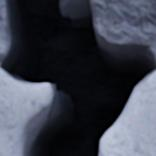broken_brick: (99, 69, 155, 155), (0, 69, 52, 155)
crack: (0, 0, 155, 155)
